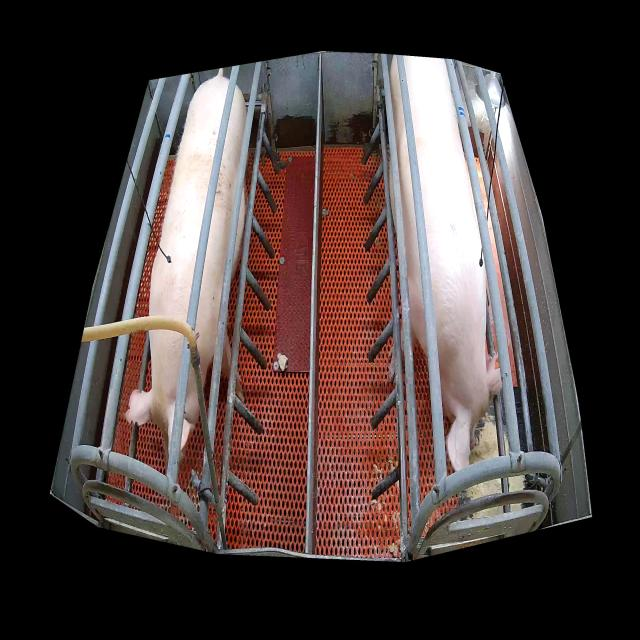pig: (126, 76, 246, 466), (390, 58, 502, 471)
